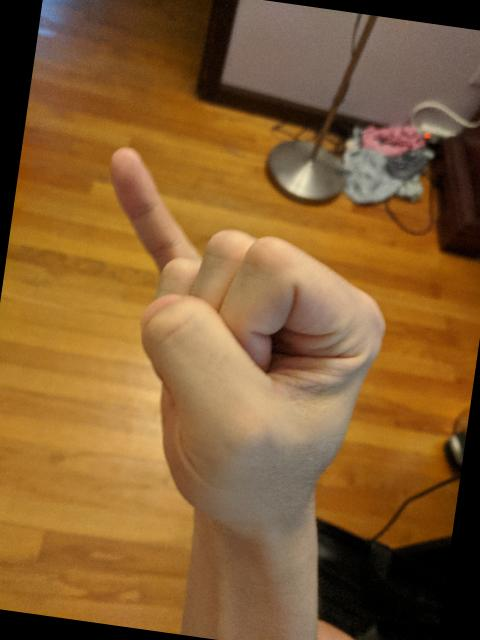I: (55, 140, 412, 548)
